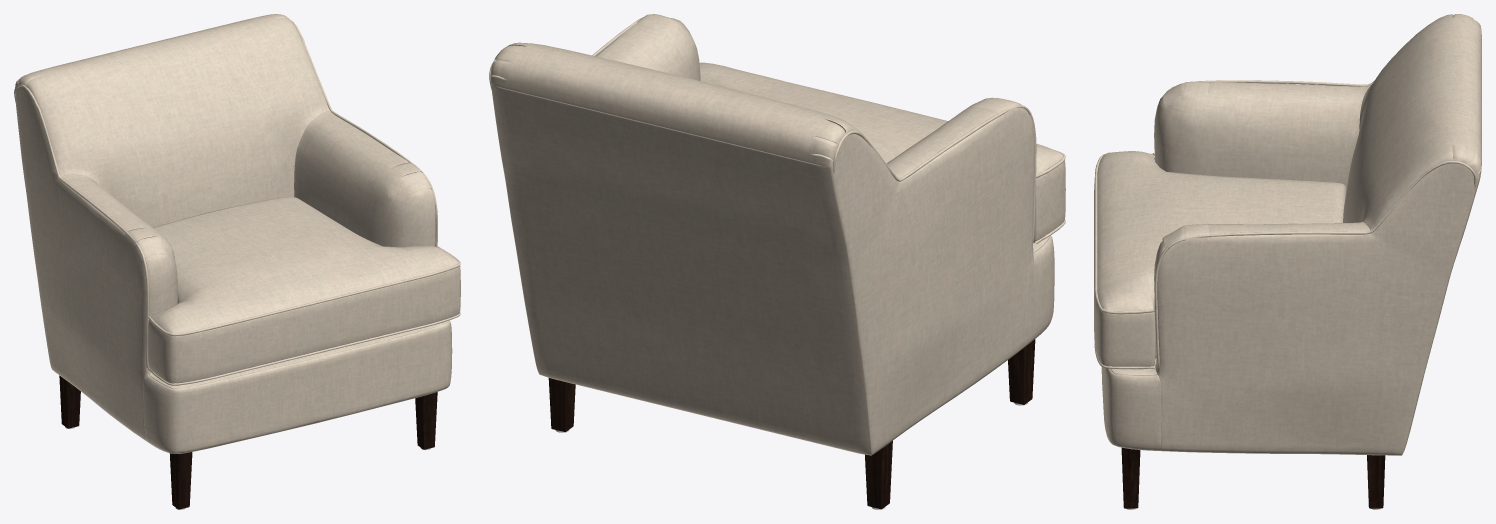
File: rocksjoen_armchair_kilanda_light_beige.glb
3 views of the same model, side by side, from view 1: azimuth 30°, elevation 25°; view 2: azimuth 150°, elevation 25°; view 3: azimuth 270°, elevation 25° (orthographic). The views are drawn at different scales.
Parts seen in each view (by area): view 1: Mesh_0; view 2: Mesh_0; view 3: Mesh_0.
Part boxes in pixels (box(x1,y1,x2,y2)): Mesh_0: box(14, 14, 460, 509); Mesh_0: box(489, 14, 1065, 509); Mesh_0: box(1094, 14, 1481, 509).
Bounding box in the file's own units: 0.7601 × 0.8 × 0.7801.
1 material, 1 textured.
